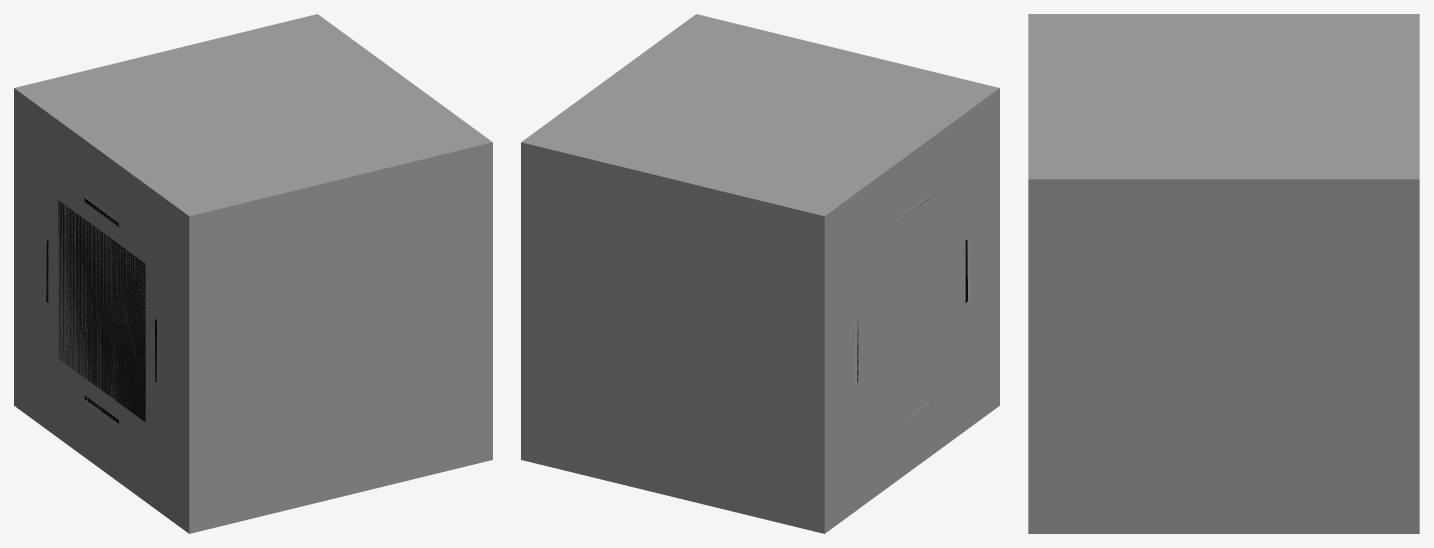
File: logicgates.obj
3 views of the same model, side by side, from view 1: azimuth 30°, elevation 25°; view 2: azimuth 150°, elevation 25°; view 3: azimuth 270°, elevation 25° (orthographic). The views are drawn at different scales.
Parts seen in each view (by area): view 1: Minecraft_Block_Cube, Minecraft_2_Edge_Connectivity_Cube.002, Case; view 2: Minecraft_Block_Cube, Minecraft_2_Edge_Connectivity_Cube.002; view 3: Minecraft_Block_Cube.
Boxes of the visible parts, left/top/right/bottom form: Minecraft_Block_Cube: left=14, top=14, right=492, bottom=533; Minecraft_2_Edge_Connectivity_Cube.002: left=14, top=88, right=339, bottom=533; Case: left=58, top=200, right=145, bottom=422; Minecraft_Block_Cube: left=521, top=14, right=999, bottom=533; Minecraft_2_Edge_Connectivity_Cube.002: left=674, top=88, right=999, bottom=533; Minecraft_Block_Cube: left=1028, top=14, right=1419, bottom=533.
Bounding box in the file's own units: 1 × 1 × 1.
Materials: 2 (1 with a texture image).
